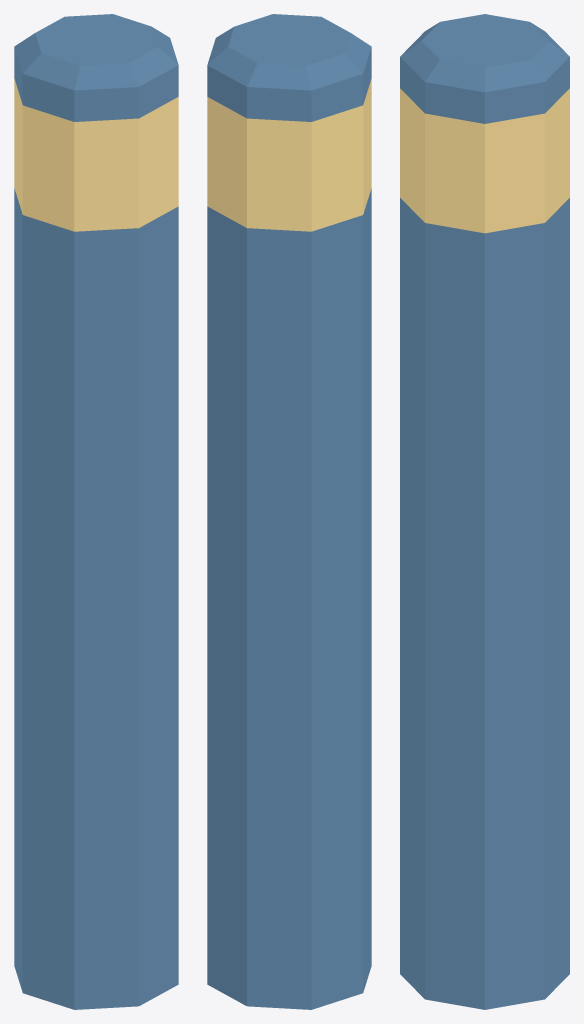
Rendered from pole-b.glb.
The picture shows the model from 3 angles, left to right: view 1: azimuth 30°, elevation 25°; view 2: azimuth 150°, elevation 25°; view 3: azimuth 270°, elevation 25°; orthographic projection.
Visible parts, largest first — view 1: pole-b; view 2: pole-b; view 3: pole-b.
Part boxes in pixels (x1,y1,x2,y2): pole-b: [14, 14, 178, 1009]; pole-b: [207, 14, 371, 1009]; pole-b: [400, 14, 569, 1009].
Size of the model in its own units: 0.192 by 1.16 by 0.192.
Materials: 1 (1 with a texture image).
